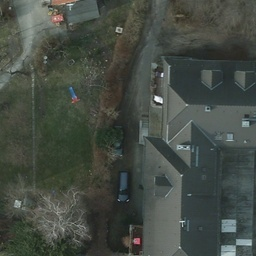car: (106, 125, 128, 161), (116, 171, 133, 205)
